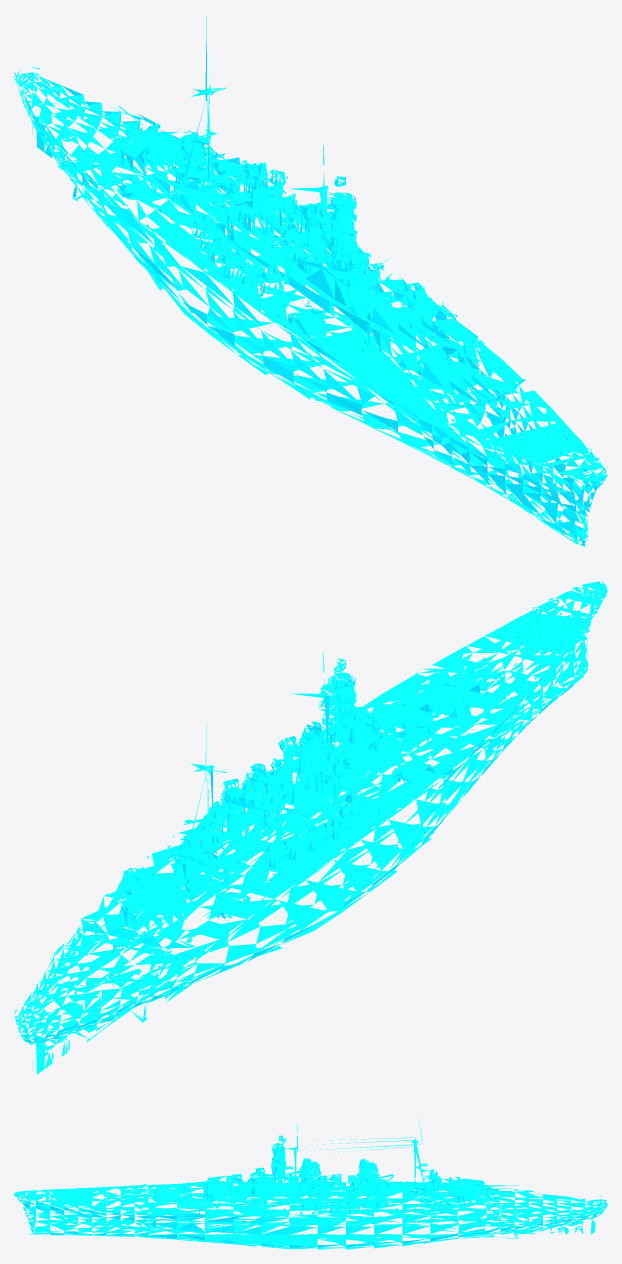
File: Olympian_Giuseppe_Verdi.glb
3 renders of one model, top to bottom at view 1: azimuth 30°, elevation 25°; view 2: azimuth 150°, elevation 25°; view 3: azimuth 270°, elevation 25°, orthographic. The views are drawn at different scales.
Bounding box in the file's own units: 2.41 × 4.12 × 16.87.
